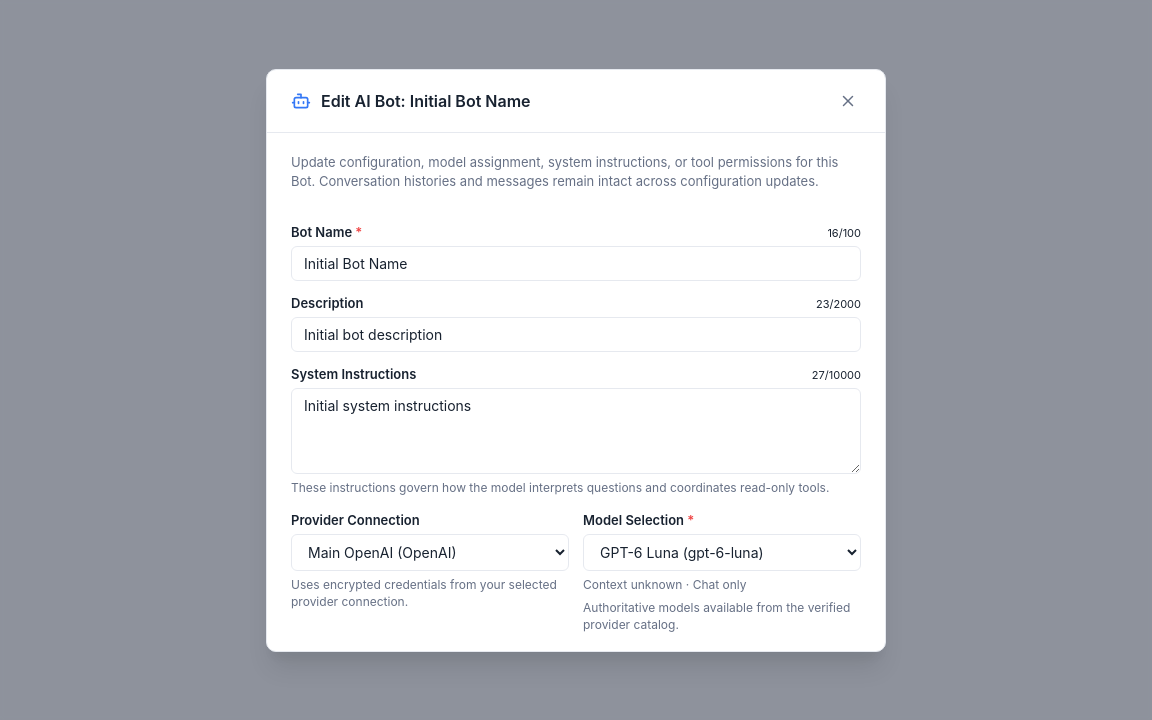
Test: Renderer: EditBotModal (Phase 6 Step 6.5) › 4. preserves user changes and keeps modal open when update fails
The image size is (1152, 720).
Replace the text in the field with test id "bot-name-input" with "Attempted Name" at (576,263), box [291,246,861,280]
(page scrolled)
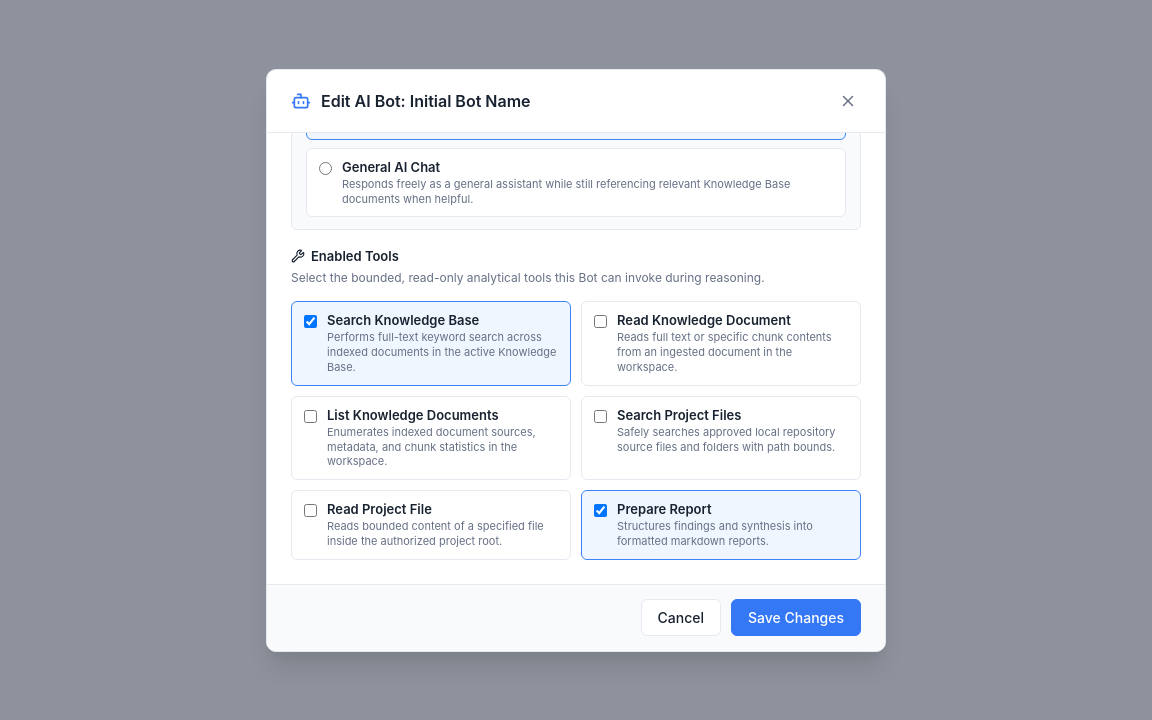
Click the button with test id "bot-form-submit-btn" at (796,618), box [731,599,861,636]
(page scrolled)
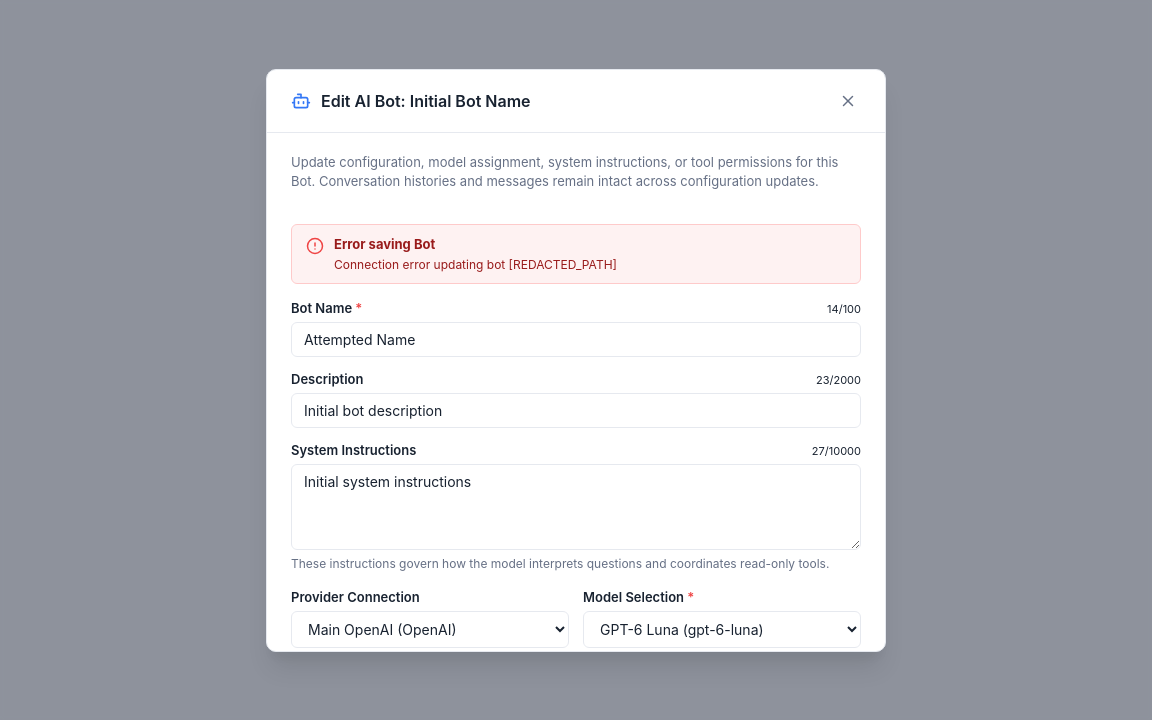
Check: the dialog with test id "edit-bot-modal" is shown, box [266,68,886,652]
Check: the message with test id "bot-form-error" shows "Connection error updating bot [REDACTED_PATH]", box [334,257,617,272]
